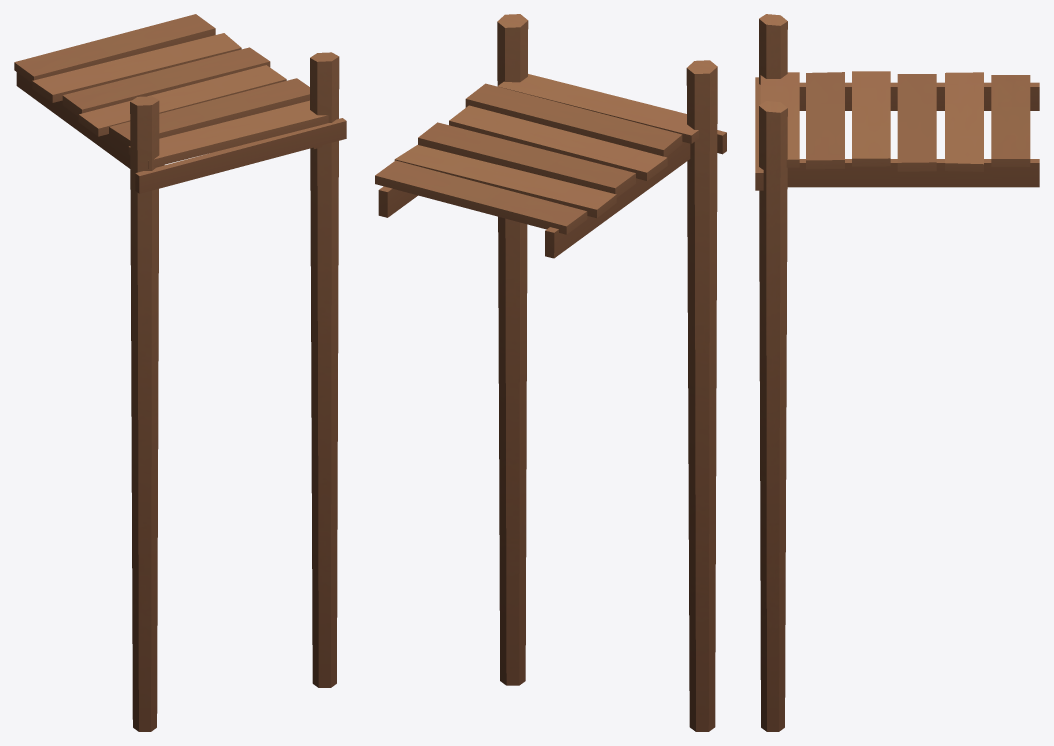
File: Wood_Bridge_01.fbx
3 renders of one model, left to right at view 1: azimuth 30°, elevation 25°; view 2: azimuth 150°, elevation 25°; view 3: azimuth 270°, elevation 25°, orthographic. The views are drawn at different scales.
Parts seen in each view (by area): view 1: Wood_Bridge_01; view 2: Wood_Bridge_01; view 3: Wood_Bridge_01.
Boxes of the visible parts, x1,y1,x2,y2 form: Wood_Bridge_01: (14, 14, 346, 731); Wood_Bridge_01: (375, 14, 726, 731); Wood_Bridge_01: (755, 14, 1039, 731).
Bounding box in the file's own units: 172 × 497 × 206.
